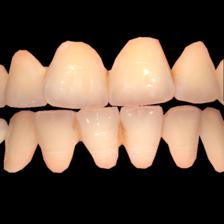cavity: (72, 113, 84, 143), (103, 71, 114, 92), (118, 122, 127, 147), (170, 69, 177, 79)
tooth: (110, 36, 173, 106), (50, 41, 107, 108), (120, 107, 167, 168), (172, 41, 218, 103), (80, 108, 124, 170), (39, 110, 81, 173), (7, 49, 49, 107), (1, 113, 40, 173), (164, 105, 200, 170), (202, 104, 224, 174)
